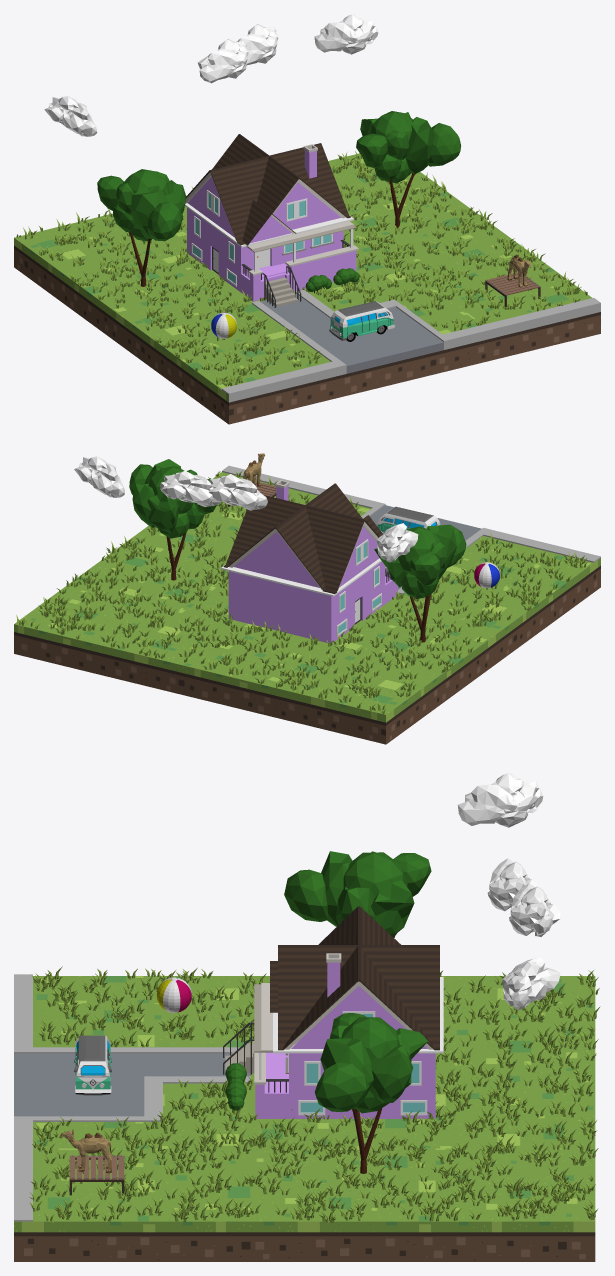
3 views of the same model, one above another, from view 1: azimuth 30°, elevation 25°; view 2: azimuth 150°, elevation 25°; view 3: azimuth 270°, elevation 25° (orthographic). The views are drawn at different scales.
Parts seen in each view (by area): view 1: Cube.006, Cube.391, Circle.012_Grass_0.192, Cube.007, tree, tree.001, VEHICLES_VAN, Cube.009, OBJRANDOM_BEACHBALL; view 2: Cube.006, Cube.391, Circle.012_Grass_0.192, Cube.007, tree.001, tree, VEHICLES_VAN, OBJRANDOM_BEACHBALL, ANIMAL_CAMELLO; view 3: Cube.006, Circle.012_Grass_0.192, Cube.391, tree, Cube.007, tree.001, VEHICLES_VAN, Cube.009, OBJRANDOM_BEACHBALL, ANIMAL_CAMELLO.
Boxes of the visible parts, x1,y1,x2,y2 form: Cube.006: [14, 153, 600, 424]; Cube.391: [185, 134, 358, 307]; Circle.012_Grass_0.192: [16, 151, 587, 386]; Cube.007: [44, 14, 378, 136]; tree: [356, 111, 460, 228]; tree.001: [97, 169, 186, 286]; VEHICLES_VAN: [329, 301, 395, 341]; Cube.009: [485, 272, 540, 306]; OBJRANDOM_BEACHBALL: [211, 312, 236, 338]; Cube.006: [14, 465, 600, 744]; Cube.391: [221, 480, 397, 643]; Circle.012_Grass_0.192: [16, 471, 587, 713]; Cube.007: [74, 456, 418, 562]; tree.001: [374, 524, 466, 642]; tree: [129, 459, 216, 580]; VEHICLES_VAN: [377, 506, 440, 533]; OBJRANDOM_BEACHBALL: [474, 562, 499, 588]; ANIMAL_CAMELLO: [243, 453, 265, 486]; Cube.006: [14, 974, 595, 1261]; Circle.012_Grass_0.192: [29, 966, 600, 1222]; Cube.391: [223, 906, 443, 1118]; tree: [314, 1013, 428, 1173]; Cube.007: [457, 773, 560, 1010]; tree.001: [284, 851, 431, 937]; VEHICLES_VAN: [74, 1035, 111, 1095]; Cube.009: [69, 1155, 124, 1195]; OBJRANDOM_BEACHBALL: [156, 977, 191, 1012]; ANIMAL_CAMELLO: [61, 1129, 111, 1173].
Size of the model in its own units: 4071 by 2192 by 4040.
Materials: 39 (3 with a texture image).
